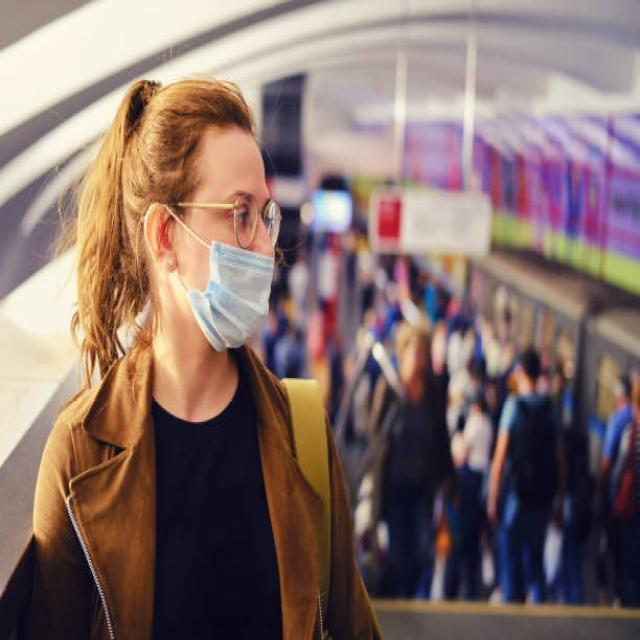hairnet: (173, 220, 277, 357)
